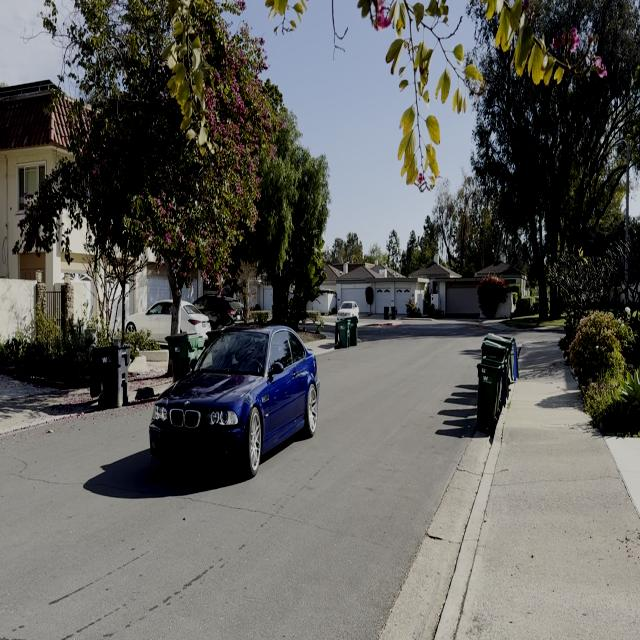Carbeetle: (146, 315, 324, 496)
